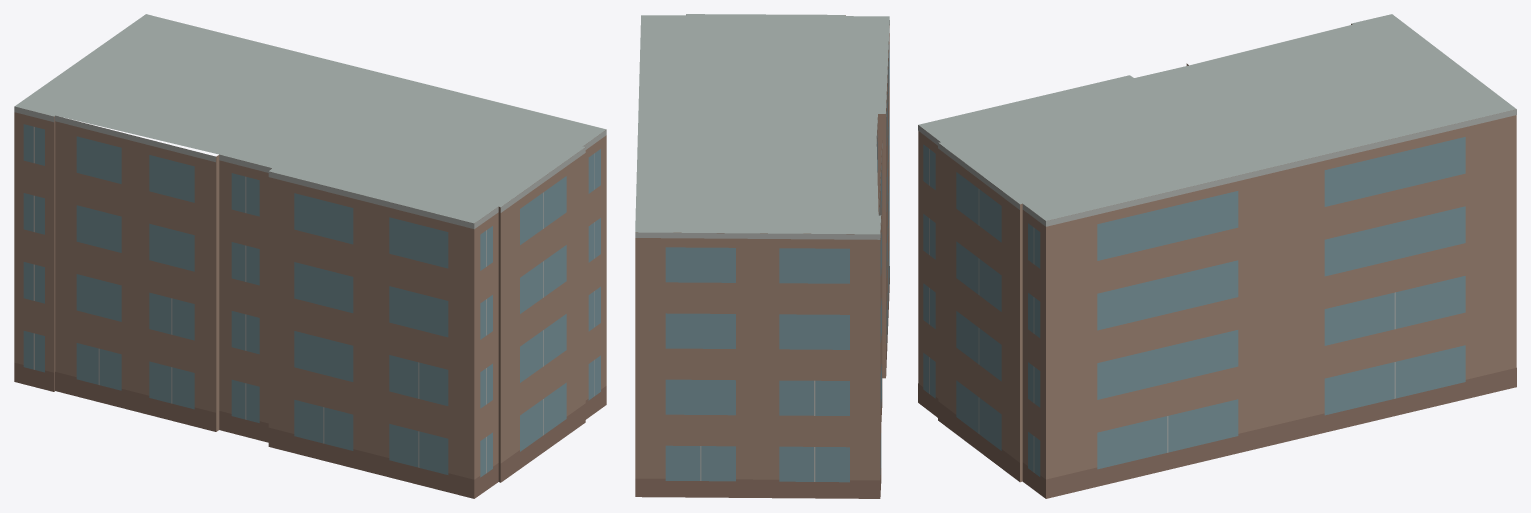
The model's file is survey-upis-32666829.glb.
3 renders of one model, left to right at view 1: azimuth 30°, elevation 25°; view 2: azimuth 150°, elevation 25°; view 3: azimuth 270°, elevation 25°, orthographic. The views are drawn at different scales.
Visible parts, largest first — view 1: survey-upis-32666829.tmp; view 2: survey-upis-32666829.tmp; view 3: survey-upis-32666829.tmp.
Part boxes in pixels (x1=…): survey-upis-32666829.tmp: x1=14, y1=14, x2=606, y2=498; survey-upis-32666829.tmp: x1=635, y1=14, x2=889, y2=498; survey-upis-32666829.tmp: x1=918, y1=14, x2=1516, y2=498.
Size of the model in its own units: 18.7 by 11.7 by 22.85.
